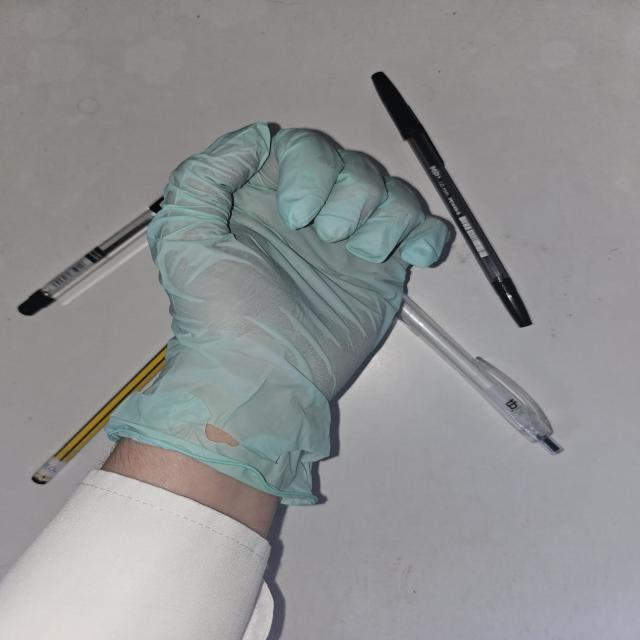gloves_damaged: (99, 120, 456, 505)
